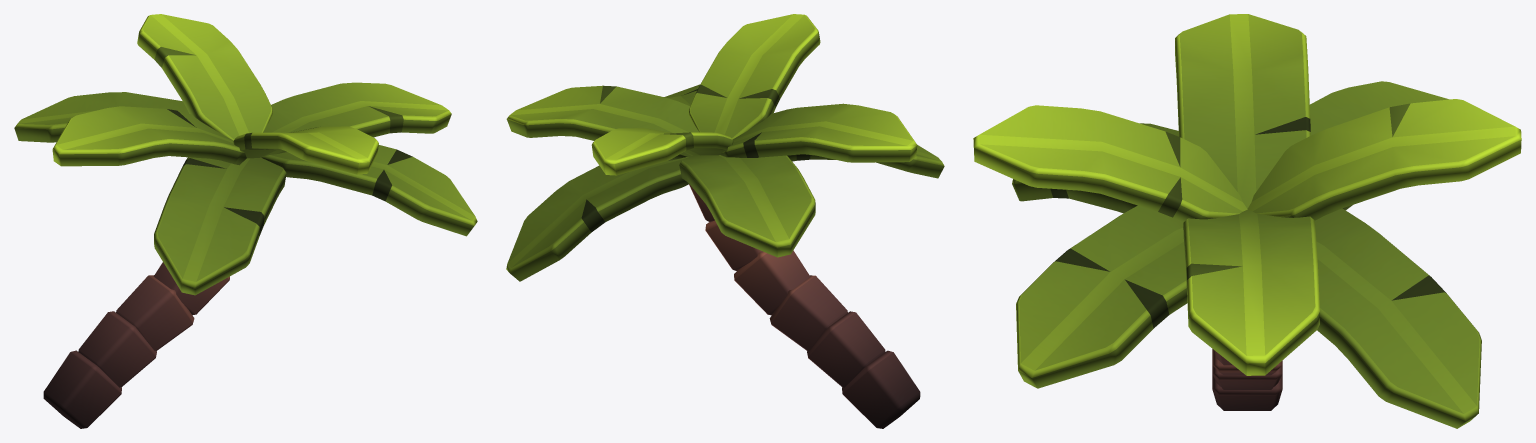
The model's file is palm_tree_3.fbx.
3 renders of one model, left to right at view 1: azimuth 30°, elevation 25°; view 2: azimuth 150°, elevation 25°; view 3: azimuth 270°, elevation 25°, orthographic. The views are drawn at different scales.
Parts seen in each view (by area): view 1: palm_tree_3; view 2: palm_tree_3; view 3: palm_tree_3.
Boxes of the visible parts, bbox=[...] form: palm_tree_3: bbox=[14, 14, 477, 428]; palm_tree_3: bbox=[506, 14, 944, 428]; palm_tree_3: bbox=[973, 14, 1521, 428].
Bounding box in the file's own units: 656 × 470 × 575.
